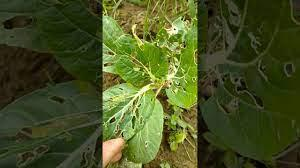Bok-Choy-Diseased: (114, 35, 170, 85)
